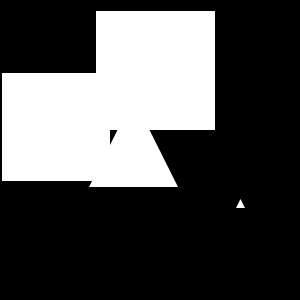circle: (96, 11, 215, 130), (2, 73, 110, 181)
triangle: (89, 98, 178, 187), (140, 12, 212, 84), (236, 199, 245, 208)
